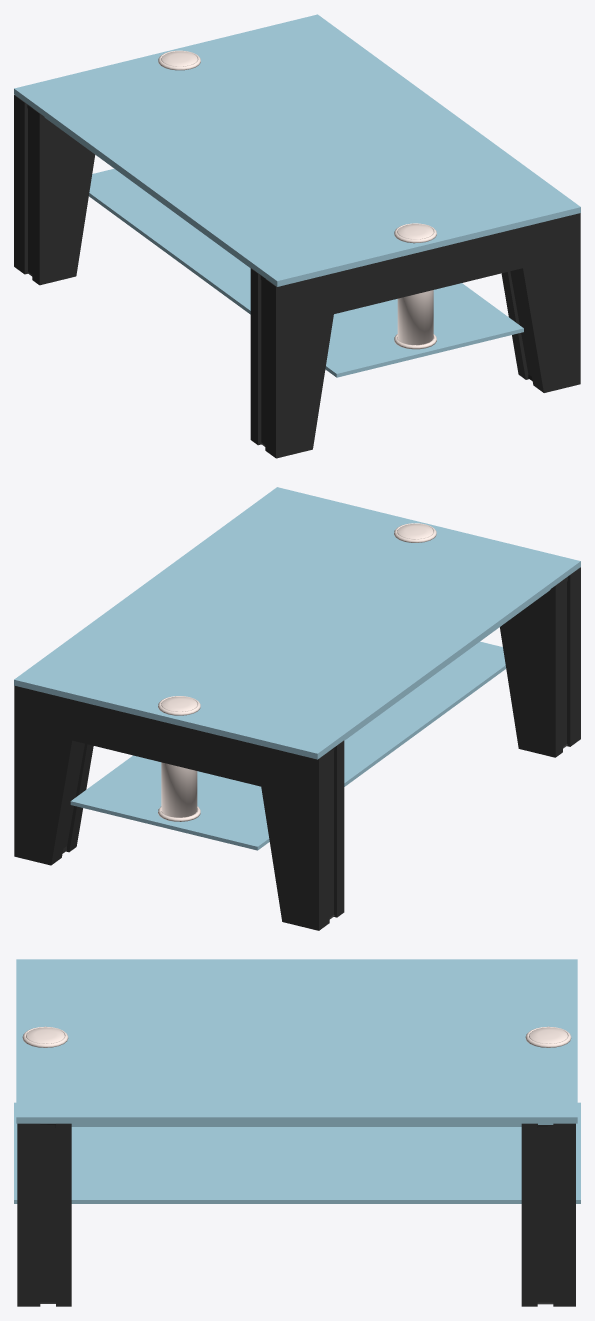
Rendered from Livingroom_Table.fbx.
The picture shows the model from 3 angles, top to bottom: view 1: azimuth 30°, elevation 25°; view 2: azimuth 150°, elevation 25°; view 3: azimuth 270°, elevation 25°; orthographic projection. The views are drawn at different scales.
Parts seen in each view (by area): view 1: Glass, Leg.001, Lower_Glass, Leg.000, Chrome_Support; view 2: Glass, Leg.000, Lower_Glass, Leg.001, Chrome_Support; view 3: Glass, Lower_Glass, Leg.001, Leg.000, Chrome_Support.
Part boxes in pixels (x1,y1,x2,y2): Glass: (14,14,580,286); Leg.001: (250,213,580,458); Lower_Glass: (89,168,523,377); Leg.000: (14,95,95,285); Chrome_Support: (158,50,436,349); Glass: (14,487,580,759); Leg.000: (14,685,344,930); Lower_Glass: (70,641,506,850); Leg.001: (500,567,580,757); Chrome_Support: (158,523,436,821); Glass: (16,959,577,1126); Lower_Glass: (14,1102,580,1203); Leg.001: (17,1123,71,1306); Leg.000: (521,1123,575,1306); Chrome_Support: (22,1026,571,1047).
Size of the model in its own units: 92.64 by 52.68 by 140.
